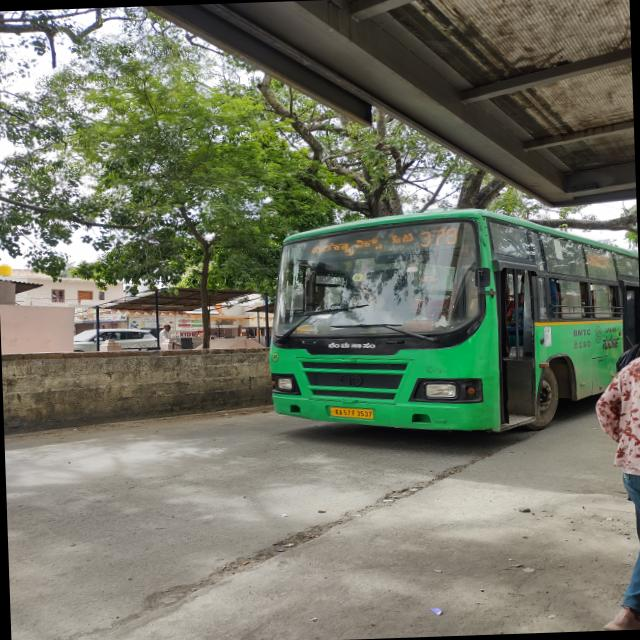bus: (252, 193, 638, 462)
display: (302, 226, 466, 258)
dnumber: (422, 227, 458, 249)
